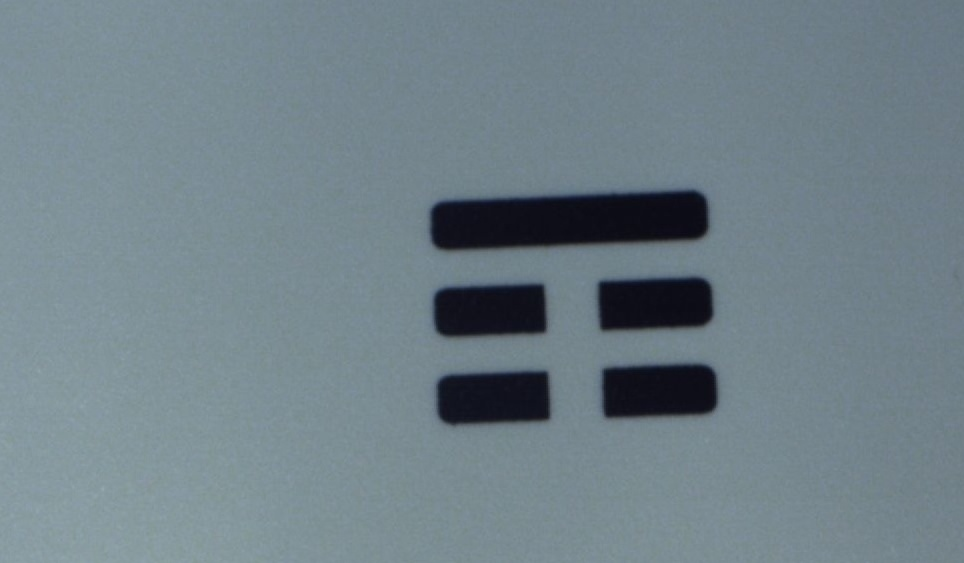BV_F6600PTIM: (397, 175, 724, 444)
